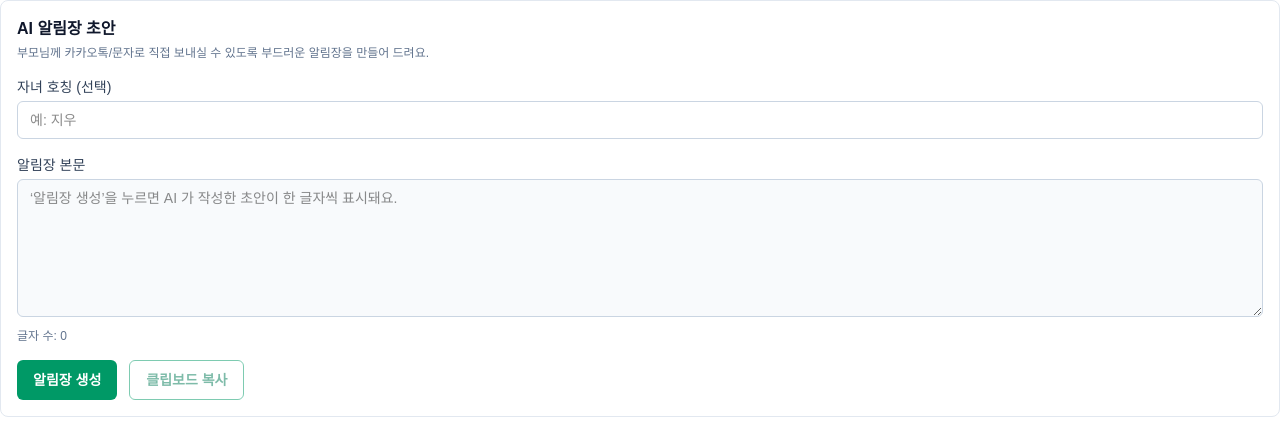
CushionNoteGenerator › scenario 4b: shareOrCopy method='unsupported' → 안내 메시지 노출
Click the button with test id "cushion-generate-button" at (67, 380), box [17,360,117,400]
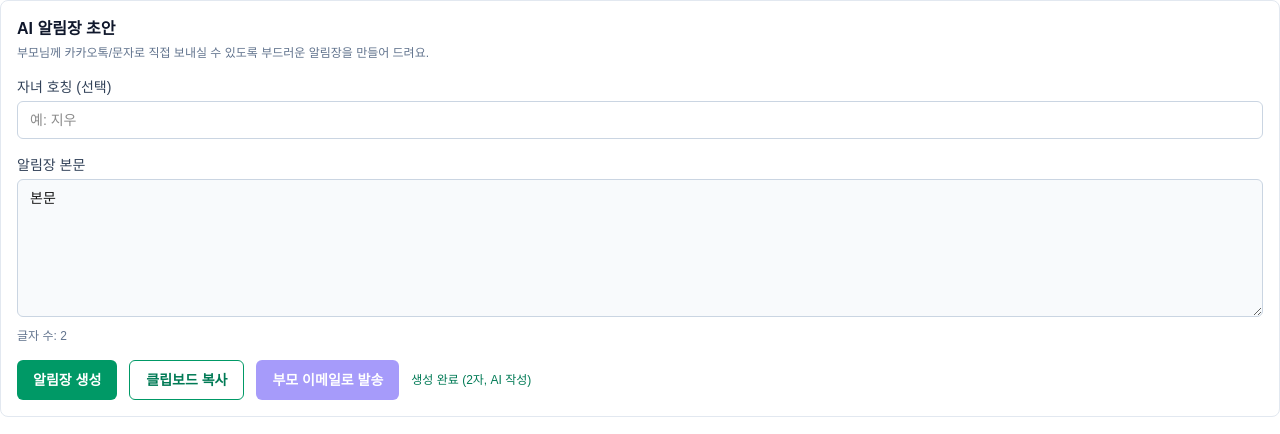
Expected: the text "생성 완료 (2자, AI 작성)" is shown, [411,372,531,388]
Click the button with test id "cushion-copy-button" at (187, 380), box [129,360,244,400]
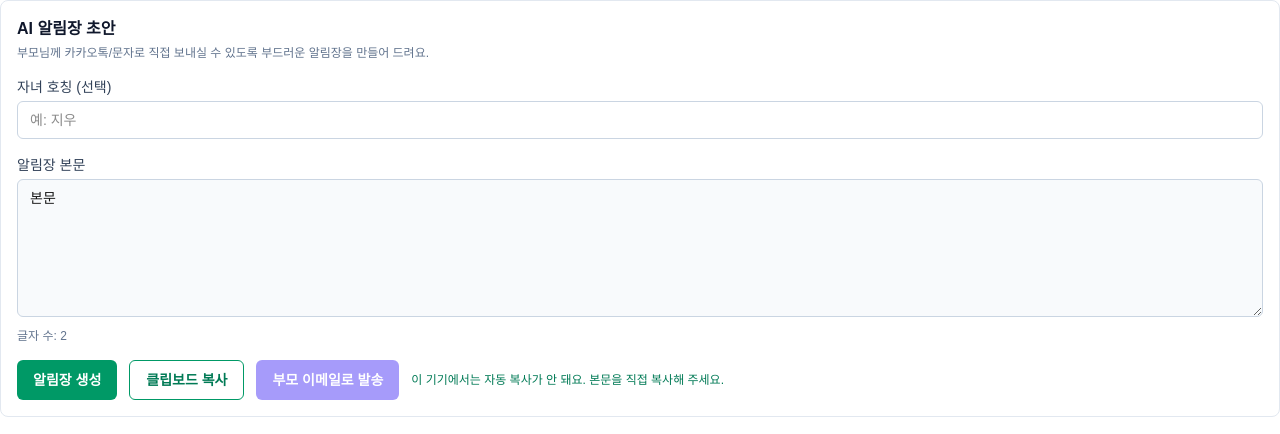
Expected: the text with test id "cushion-status-copied" shows "자동 복사", [411,373,724,387]
